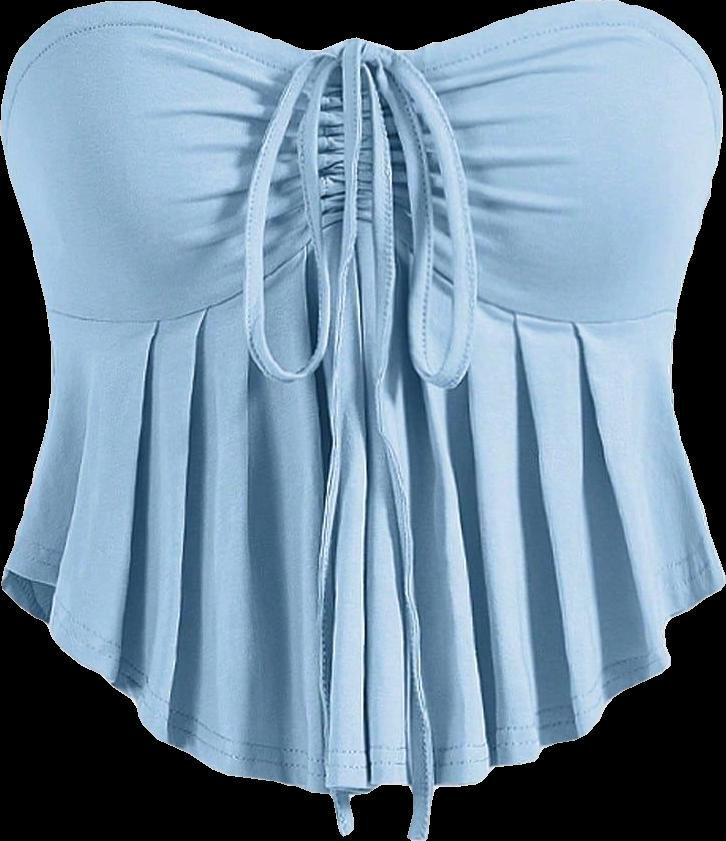Bodice: (1, 0, 725, 788)
Neckline: (6, 0, 718, 329)
Waistline: (0, 574, 725, 788)
